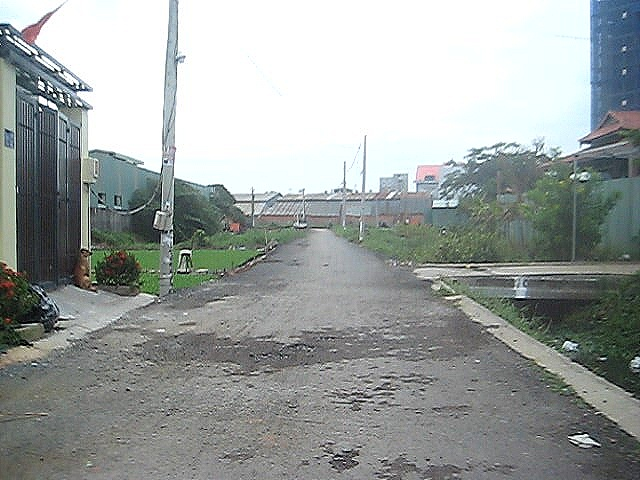hole: (245, 349, 288, 361), (279, 341, 315, 353), (313, 334, 343, 340)
